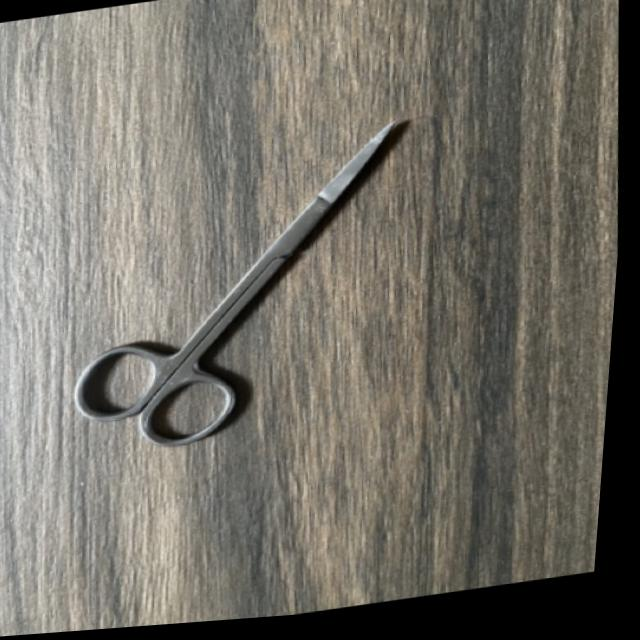scissor: (53, 114, 441, 483)
